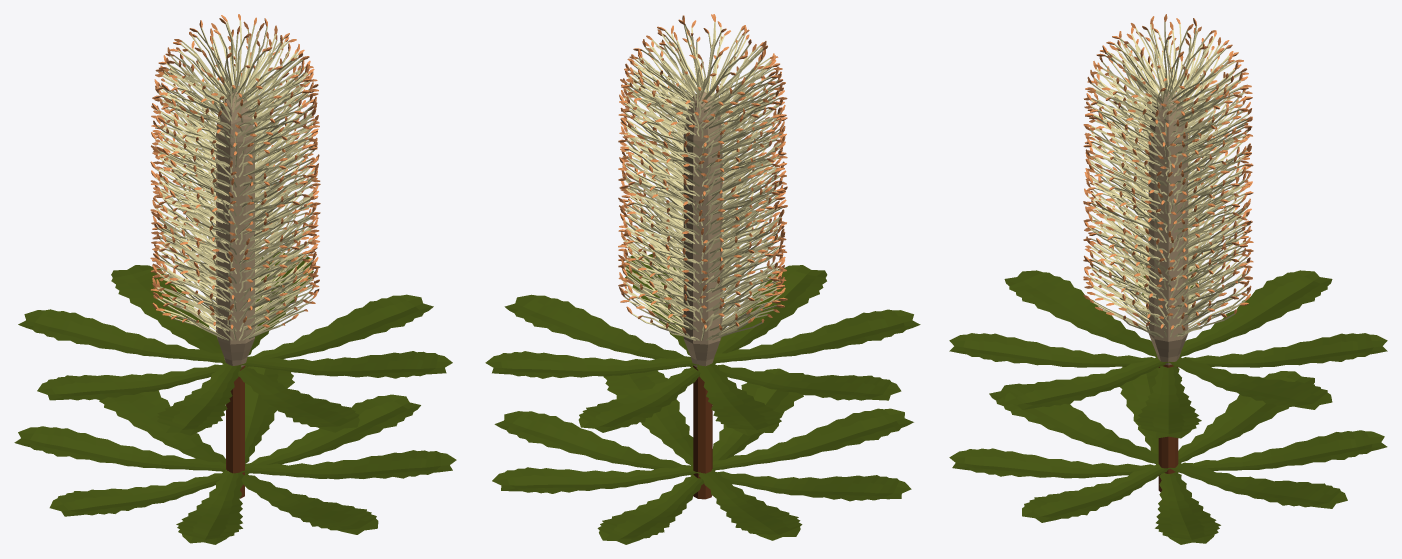
Rendered from banksia.fbx.
The picture shows the model from 3 angles, left to right: view 1: azimuth 30°, elevation 25°; view 2: azimuth 150°, elevation 25°; view 3: azimuth 270°, elevation 25°; orthographic projection.
Visible parts, largest first — view 1: HP Spike, Plane.007, Plane.003, Plane, Plane.004, LP Spike, Plane.001, Plane.005, Plane.006, Plane.002, Stem, LP Spike Base; view 2: HP Spike, Plane.006, Plane.002, Plane, Plane.004, LP Spike, Plane.001, Plane.007, Plane.005, Plane.003, Stem, LP Spike Base; view 3: HP Spike, Plane.002, Plane.003, Plane.005, Plane.001, Plane.006, LP Spike, Plane.007, Plane.004, Plane, Stem, LP Spike Base.
Part boxes in pixels (<box>): HP Spike: <box>150,14,320,340</box>; Plane.007: <box>14,426,456,479</box>; Plane.003: <box>18,309,452,378</box>; Plane: <box>37,294,433,400</box>; Plane.004: <box>49,394,420,516</box>; LP Spike: <box>216,92,254,344</box>; Plane.001: <box>111,265,359,432</box>; Plane.005: <box>99,390,378,534</box>; Plane.006: <box>176,366,294,544</box>; Plane.002: <box>157,251,313,435</box>; Stem: <box>226,366,245,498</box>; LP Spike Base: <box>218,338,254,367</box>; HP Spike: <box>618,14,787,340</box>; Plane.006: <box>492,408,913,493</box>; Plane.002: <box>485,309,920,378</box>; Plane: <box>504,294,901,400</box>; Plane.004: <box>494,411,911,501</box>; LP Spike: <box>683,92,722,344</box>; Plane.001: <box>578,265,827,432</box>; Plane.007: <box>603,370,802,540</box>; Plane.005: <box>597,368,804,544</box>; Plane.003: <box>625,253,781,435</box>; Stem: <box>693,365,712,499</box>; LP Spike Base: <box>684,339,719,367</box>; HP Spike: <box>1083,14,1253,337</box>; Plane.002: <box>1004,270,1332,409</box>; Plane.003: <box>1004,270,1332,409</box>; Plane.005: <box>949,430,1387,478</box>; Plane.001: <box>949,333,1387,367</box>; Plane.006: <box>989,383,1347,508</box>; LP Spike: <box>1148,91,1188,341</box>; Plane.007: <box>1022,371,1314,522</box>; Plane.004: <box>1120,367,1220,544</box>; Plane: <box>1135,257,1201,438</box>; Stem: <box>1158,364,1178,492</box>; LP Spike Base: <box>1149,334,1187,365</box>.
Size of the model in its own units: 2201 by 2578 by 2201.
